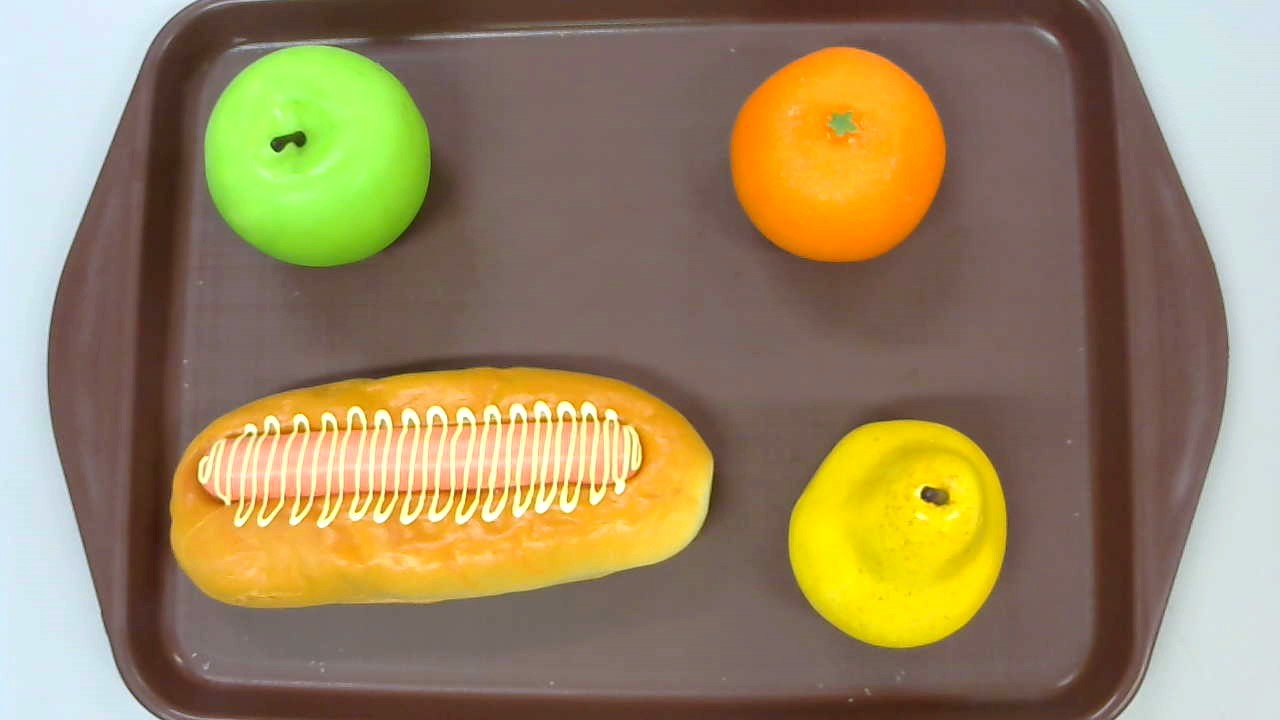green apple: (203, 45, 431, 266)
hot dog: (169, 366, 714, 607)
orange: (729, 42, 947, 264)
yellow pear: (787, 418, 1007, 647)
